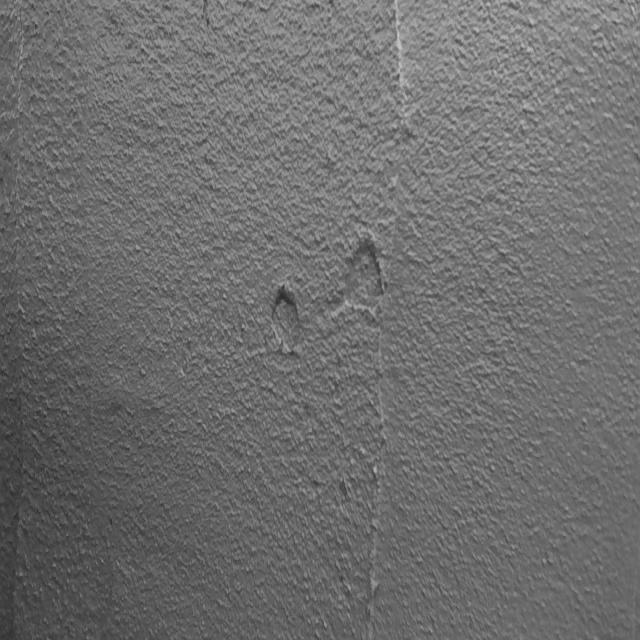trowels marks: (11, 47, 31, 640), (362, 396, 396, 640)
